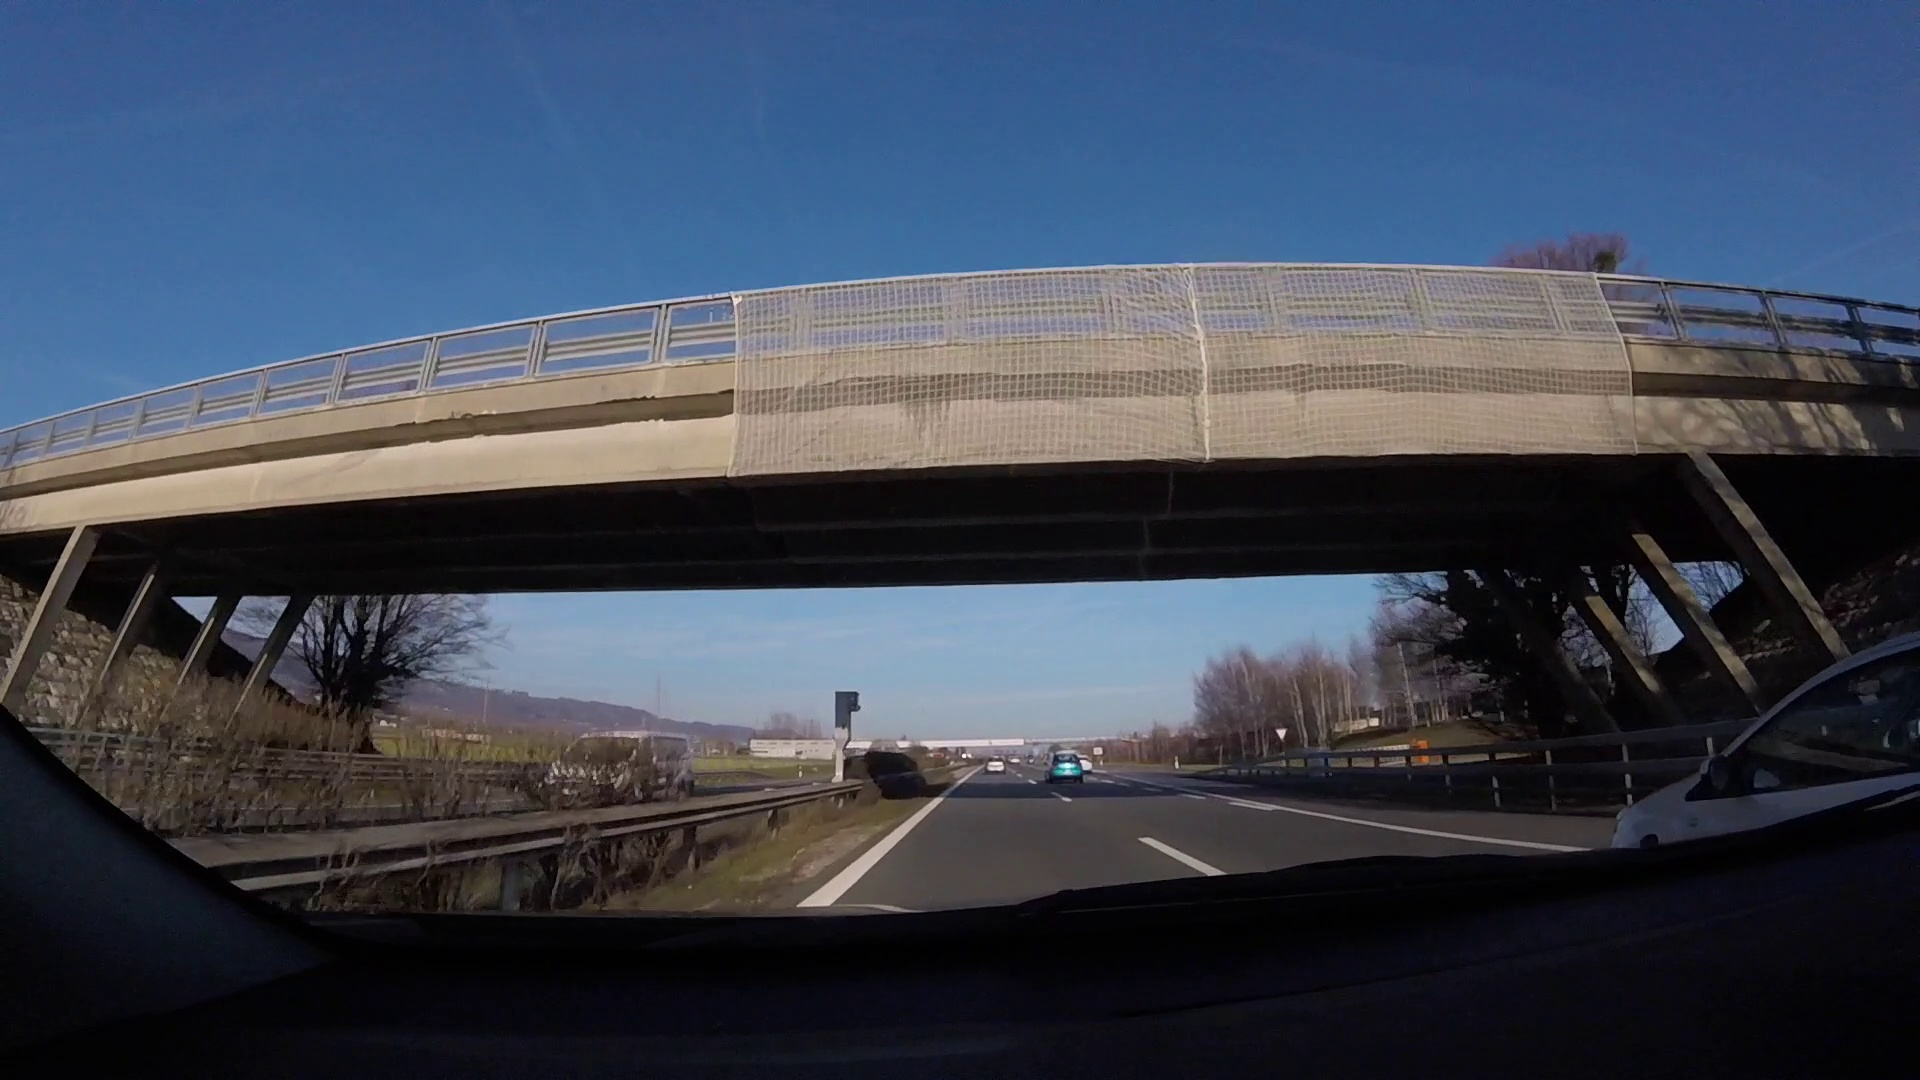radar: (832, 690, 862, 786)
